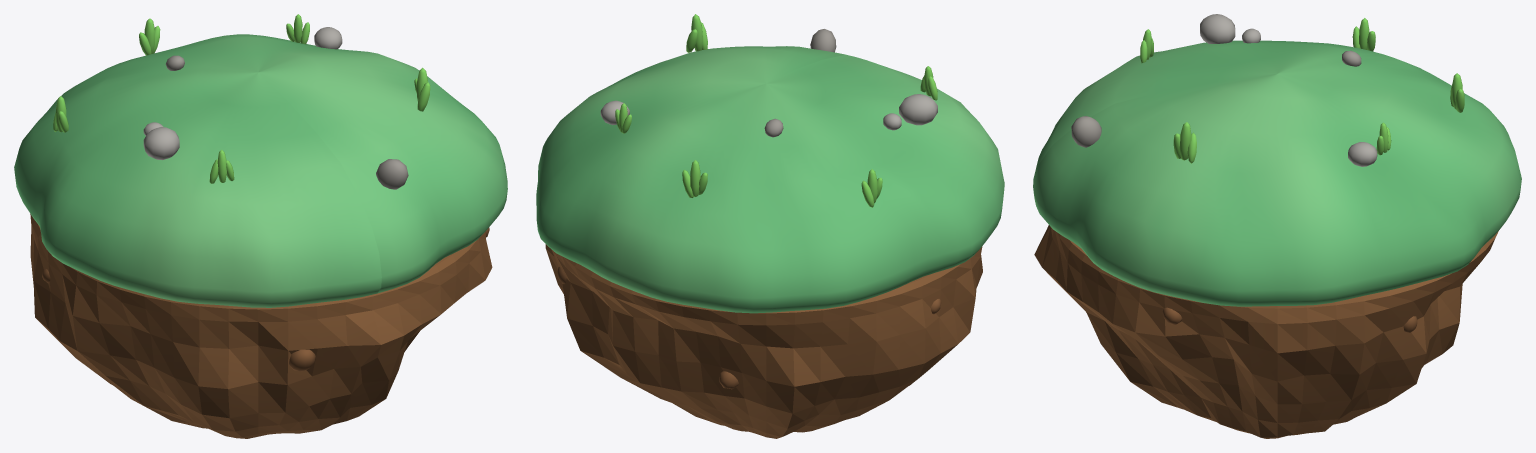
File: island.glb
3 renders of one model, left to right at view 1: azimuth 30°, elevation 25°; view 2: azimuth 150°, elevation 25°; view 3: azimuth 270°, elevation 25°, orthographic. The views are drawn at different scales.
Visible parts, largest first — view 1: island-grass, island-soil, pebble-0, rock-facet-0, pebble-2, soil-rock-1; view 2: island-grass, island-soil, pebble-0, rock-facet-0; view 3: island-grass, island-soil, pebble-0, rock-facet-0, pebble-2.
Part boxes in pixels (x1=…): island-grass: x1=14, y1=34, x2=507, y2=307; island-soil: x1=30, y1=214, x2=492, y2=438; pebble-0: x1=143, y1=127, x2=179, y2=160; rock-facet-0: x1=376, y1=159, x2=408, y2=189; pebble-2: x1=314, y1=27, x2=342, y2=49; soil-rock-1: x1=289, y1=349, x2=315, y2=371; island-grass: x1=536, y1=46, x2=1004, y2=313; island-soil: x1=545, y1=244, x2=982, y2=438; pebble-0: x1=899, y1=94, x2=937, y2=125; rock-facet-0: x1=810, y1=29, x2=836, y2=52; island-grass: x1=1033, y1=40, x2=1521, y2=306; island-soil: x1=1034, y1=225, x2=1498, y2=438; pebble-0: x1=1200, y1=14, x2=1235, y2=43; rock-facet-0: x1=1071, y1=116, x2=1101, y2=147; pebble-2: x1=1348, y1=142, x2=1377, y2=166.
Bounding box in the file's own units: 4.06 × 3.24 × 4.05.
